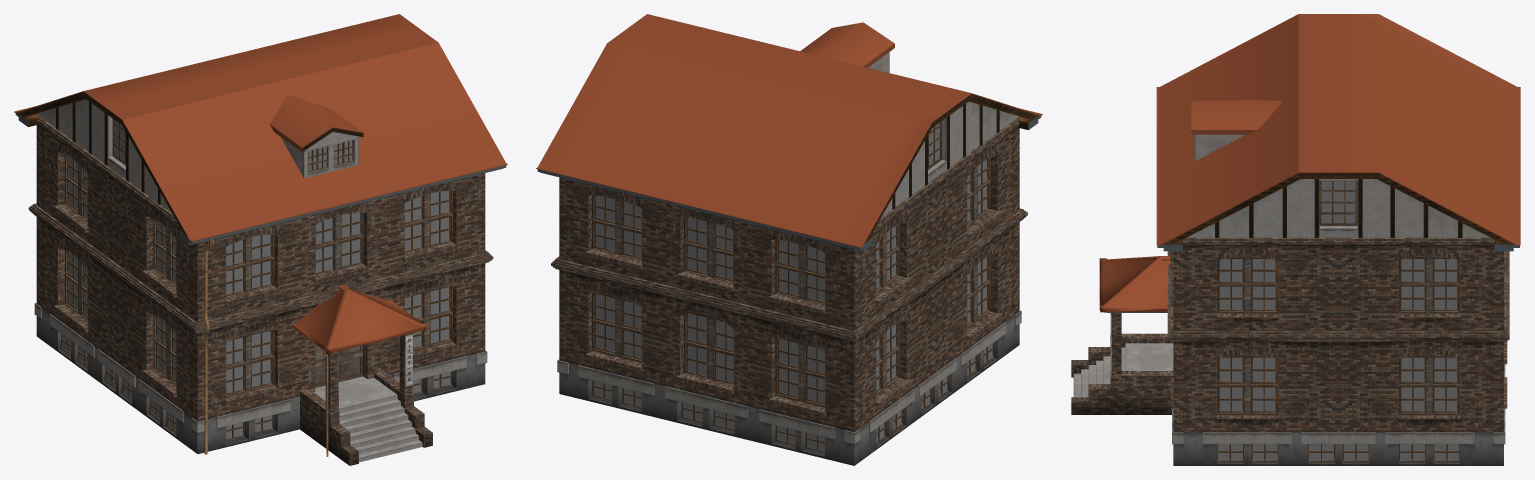
File: neel.glb
3 views of the same model, side by side, from view 1: azimuth 30°, elevation 25°; view 2: azimuth 150°, elevation 25°; view 3: azimuth 270°, elevation 25° (orthographic). The views are drawn at different scales.
Parts seen in each view (by area): view 1: NeelSchoolWindowsRoof_Roof_NeelSchoolWindowsRoof_0, NeelSchoolWalls_Wall_NeelSchoolWalls_0; view 2: NeelSchoolWindowsRoof_Roof_NeelSchoolWindowsRoof_0, NeelSchoolWalls_Wall_NeelSchoolWalls_0; view 3: NeelSchoolWindowsRoof_Roof_NeelSchoolWindowsRoof_0, NeelSchoolWalls_Wall_NeelSchoolWalls_0.
Boxes of the visible parts, x1=… form: NeelSchoolWindowsRoof_Roof_NeelSchoolWindowsRoof_0: x1=14, y1=14, x2=507, y2=456; NeelSchoolWalls_Wall_NeelSchoolWalls_0: x1=28, y1=99, x2=493, y2=465; NeelSchoolWindowsRoof_Roof_NeelSchoolWindowsRoof_0: x1=536, y1=14, x2=1042, y2=452; NeelSchoolWalls_Wall_NeelSchoolWalls_0: x1=551, y1=52, x2=1027, y2=465; NeelSchoolWindowsRoof_Roof_NeelSchoolWindowsRoof_0: x1=1099, y1=14, x2=1520, y2=461; NeelSchoolWalls_Wall_NeelSchoolWalls_0: x1=1071, y1=134, x2=1509, y2=465.
Size of the model in its own units: 11.54 by 10.42 by 13.86.
2 materials, 2 textured.
